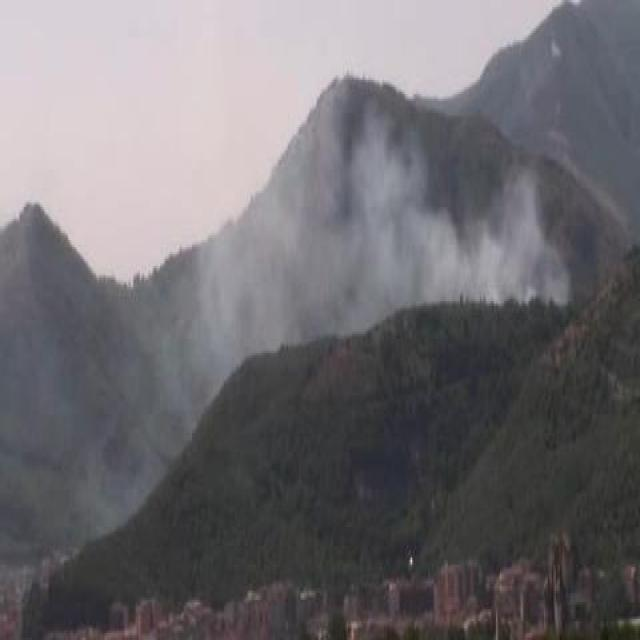Smoke: (312, 98, 565, 310)
